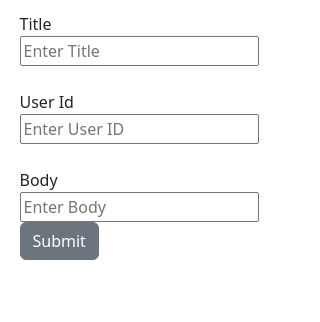
Test related to the form component › Not entering any body displays en error message
In the field with test id "title": (139,51) top-left (20, 36), bottom-right (258, 66), type "12345"
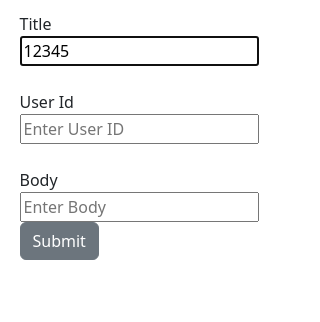
In the field with test id "userId": (139,129) top-left (20, 114), bottom-right (258, 144), type "1"
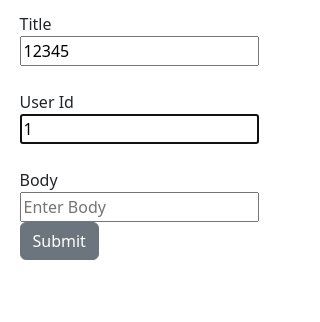
Click the button with test id "Submit": (59,241) top-left (20, 222), bottom-right (99, 260)
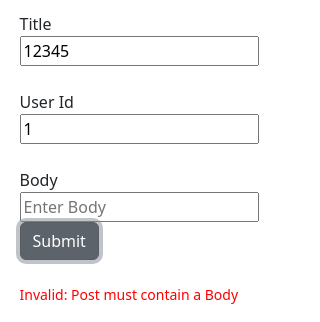
Expected: the text "Invalid: Post must contain a Body" is shown, top-left (20, 284), bottom-right (258, 305)
